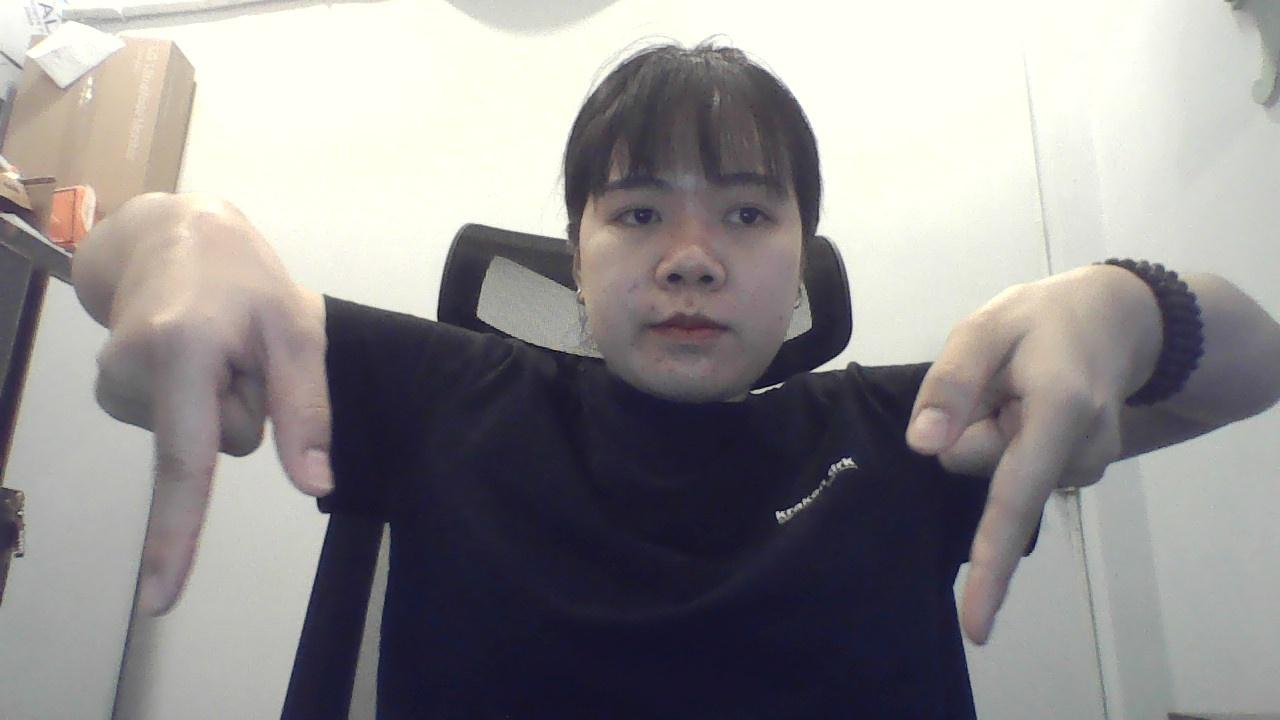Q: (94, 222, 349, 637), (902, 261, 1136, 668)
